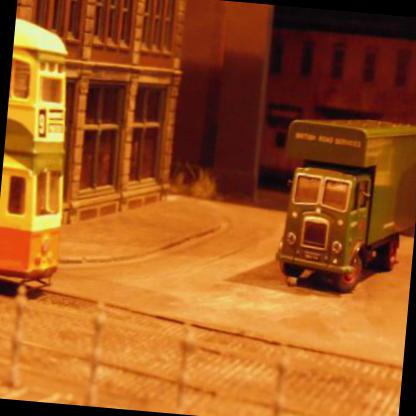truck: (266, 115, 415, 295)
